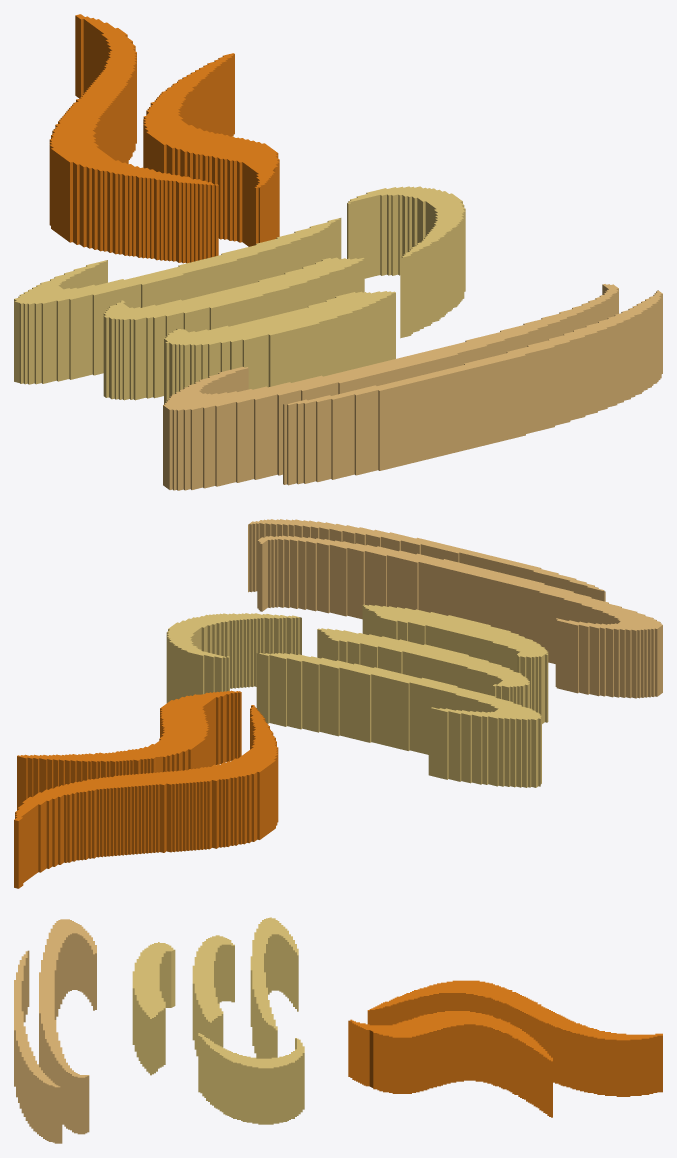
The model's file is java-cut.fbx.
The picture shows the model from 3 angles, top to bottom: view 1: azimuth 30°, elevation 25°; view 2: azimuth 150°, elevation 25°; view 3: azimuth 270°, elevation 25°; orthographic projection. The views are drawn at different scales.
Parts seen in each view (by area): view 1: Plane.002, Plane.001, Plane; view 2: Plane.002, Plane.001, Plane; view 3: Plane, Plane.002, Plane.001.
Boxes of the visible parts, x1,y1,x2,y2 form: Plane.002: [14, 186, 465, 404]; Plane.001: [163, 284, 662, 490]; Plane: [49, 14, 279, 263]; Plane.002: [166, 604, 548, 787]; Plane.001: [248, 519, 662, 698]; Plane: [14, 690, 278, 888]; Plane: [348, 980, 662, 1117]; Plane.002: [132, 917, 304, 1124]; Plane.001: [14, 919, 96, 1143].
Bounding box in the file's own units: 235 × 36.44 × 379.
